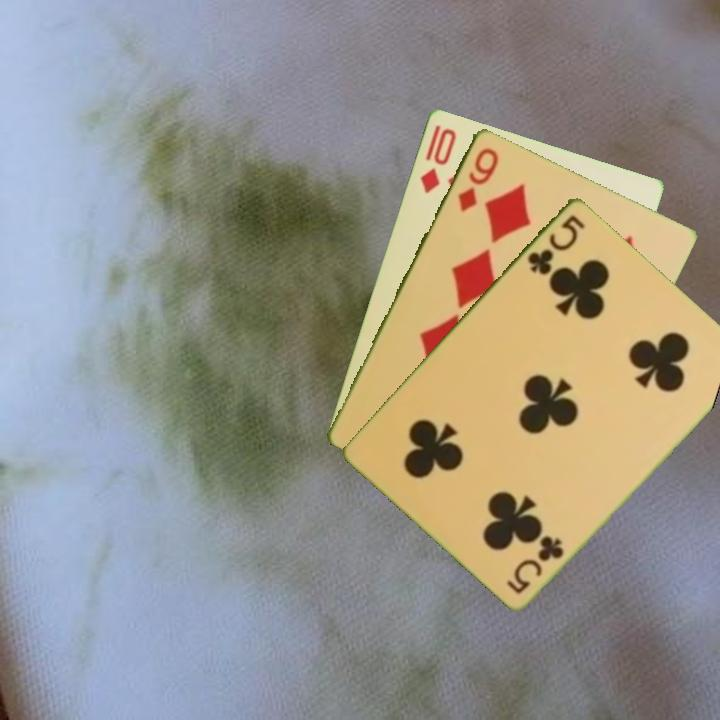10d: (416, 121, 459, 196)
5c: (523, 210, 588, 278), (503, 532, 567, 597)
9d: (453, 143, 501, 215)
